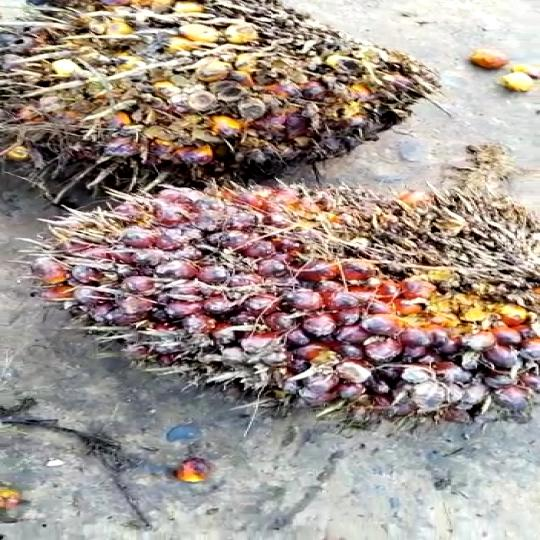masak: (46, 174, 540, 438), (0, 0, 463, 193)
